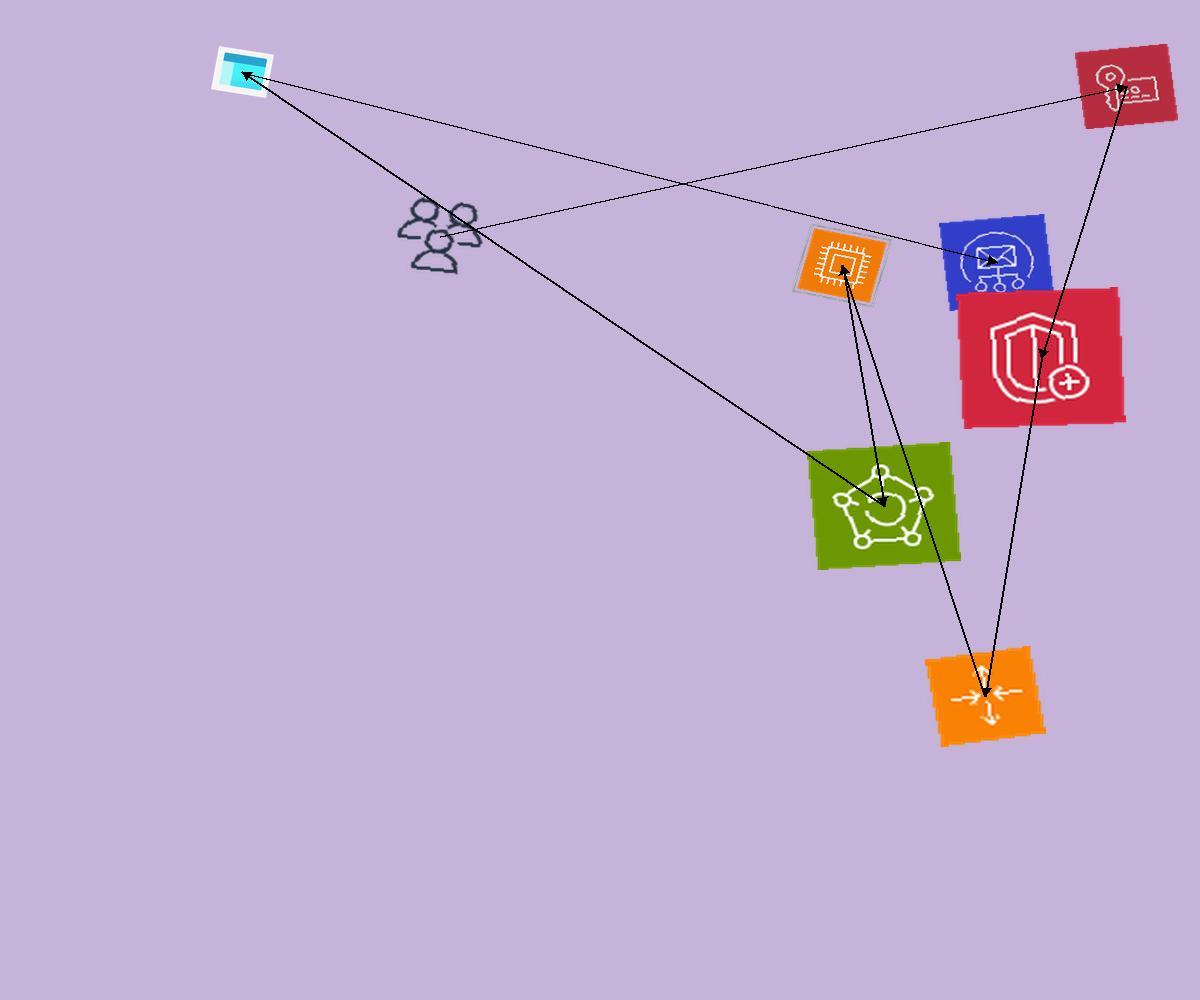AWS-Backup: (807, 442, 961, 570)
AWS-Category_Compute: (791, 223, 893, 308)
AWS-Key-Management-Service: (1074, 43, 1179, 130)
AWS-Res_Users: (386, 191, 494, 281)
AWS-Scaling-group: (925, 646, 1046, 747)
AWS-Shield: (956, 287, 1126, 429)
AWS-Simple-Email-Service: (939, 214, 1055, 311)
Azure_management-portal: (211, 46, 274, 98)
